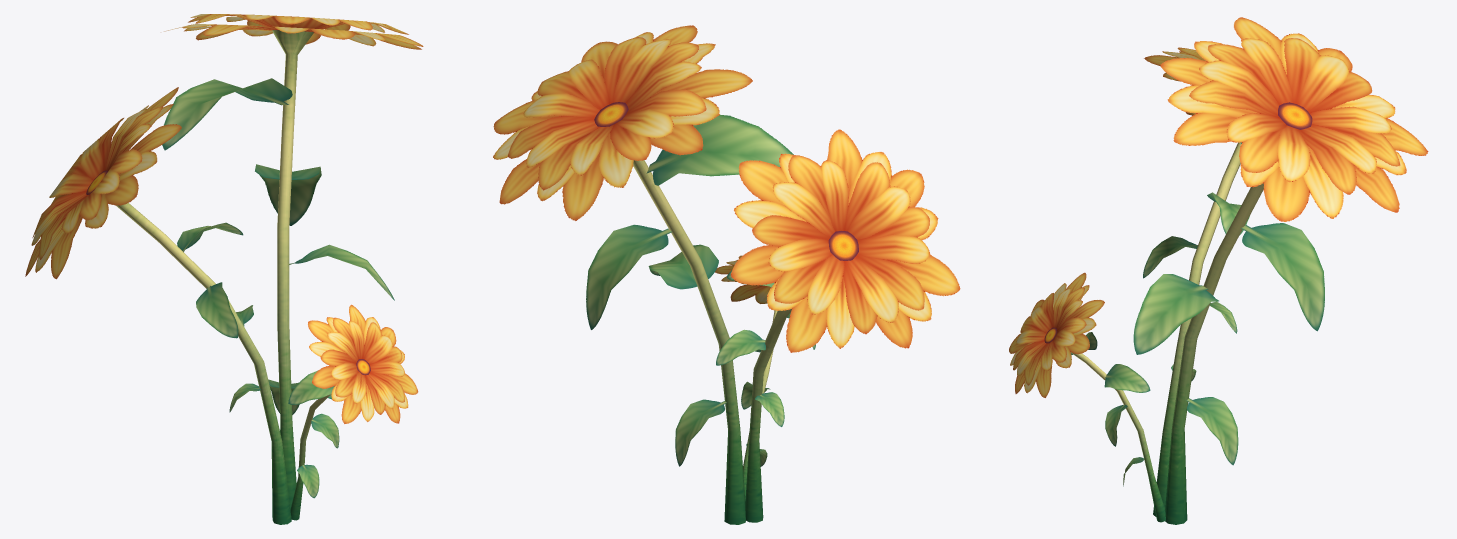
The model's file is VEG0310030.fbx.
3 views of the same model, side by side, from view 1: azimuth 30°, elevation 25°; view 2: azimuth 150°, elevation 25°; view 3: azimuth 270°, elevation 25° (orthographic). The views are drawn at different scales.
Parts seen in each view (by area): view 1: smVEG0310030; view 2: smVEG0310030; view 3: smVEG0310030.
Boxes of the visible parts, box(x1,y1,x2,y2) form: smVEG0310030: box(25, 14, 423, 524); smVEG0310030: box(493, 25, 960, 524); smVEG0310030: box(1009, 17, 1428, 524).
Size of the model in its own units: 55.09 by 58.72 by 47.92.
1 material, 1 textured.
